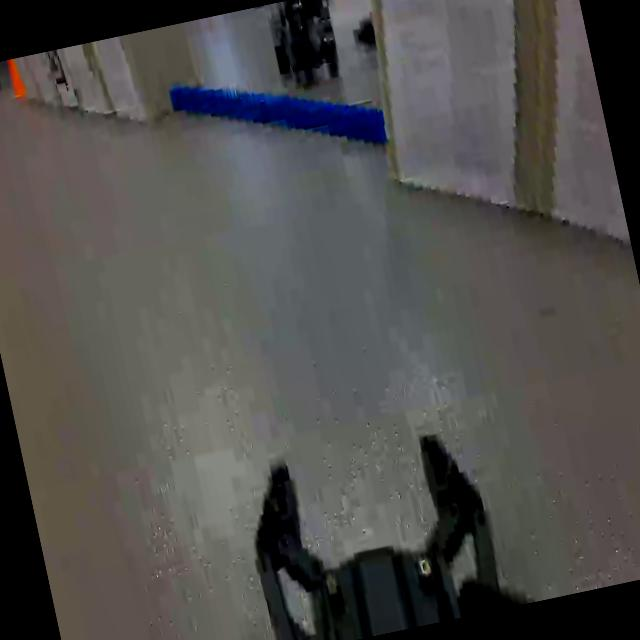cone: (0, 56, 32, 105)
river: (166, 48, 396, 187)
robot: (265, 0, 348, 93)
storage cube: (355, 0, 563, 242), (52, 22, 199, 144), (12, 48, 74, 119)
